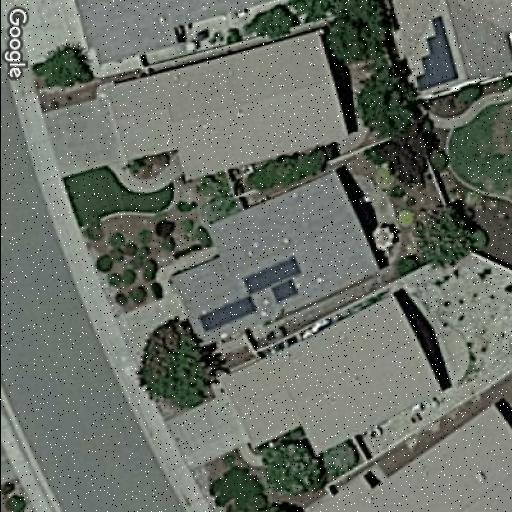solar-panel: (197, 257, 301, 332), (412, 14, 460, 96)
